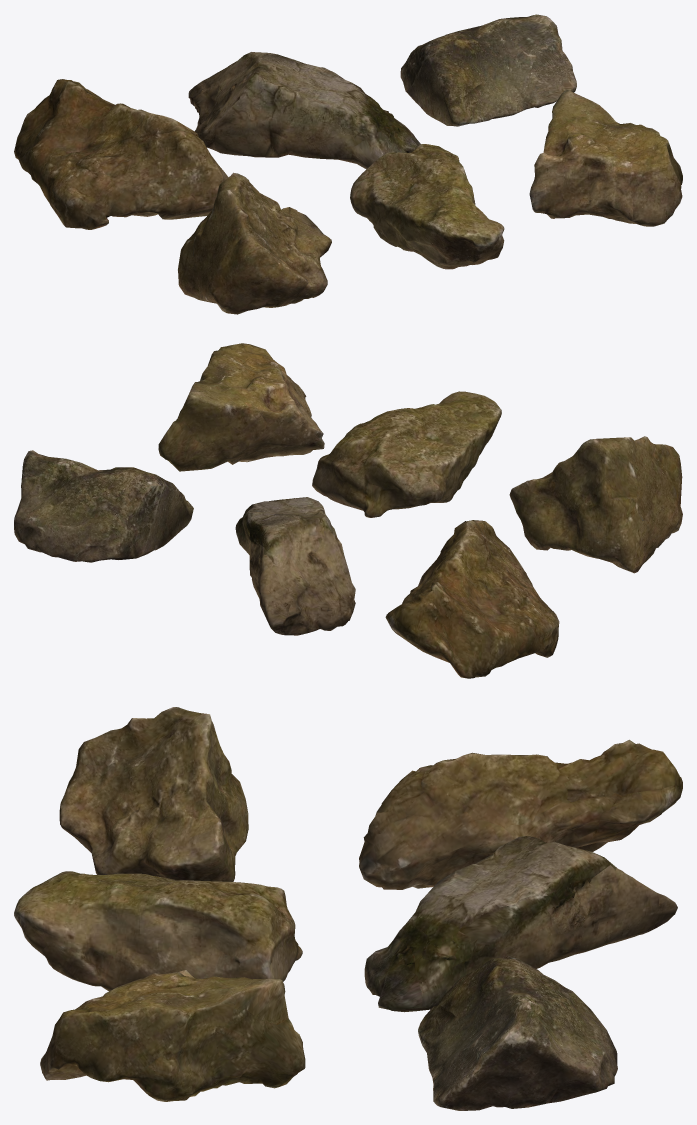
File: rock_moss_set_01_1k_md.glb
The picture shows the model from 3 angles, top to bottom: view 1: azimuth 30°, elevation 25°; view 2: azimuth 150°, elevation 25°; view 3: azimuth 270°, elevation 25°; orthographic projection. The views are drawn at different scales.
Parts seen in each view (by area): view 1: rock_moss_set_01_rock01, rock_moss_set_01_rock02, rock_moss_set_01_rock06, rock_moss_set_01_rock04, rock_moss_set_01_rock03, rock_moss_set_01_rock05; view 2: rock_moss_set_01_rock04, rock_moss_set_01_rock01, rock_moss_set_01_rock05, rock_moss_set_01_rock03, rock_moss_set_01_rock06, rock_moss_set_01_rock02; view 3: rock_moss_set_01_rock01, rock_moss_set_01_rock02, rock_moss_set_01_rock05, rock_moss_set_01_rock04, rock_moss_set_01_rock06, rock_moss_set_01_rock03.
Part boxes in pixels (x1=…): rock_moss_set_01_rock01: x1=14, y1=79, x2=228, y2=229; rock_moss_set_01_rock02: x1=188, y1=52, x2=420, y2=169; rock_moss_set_01_rock06: x1=529, y1=90, x2=682, y2=226; rock_moss_set_01_rock04: x1=178, y1=172, x2=331, y2=314; rock_moss_set_01_rock03: x1=400, y1=14, x2=576, y2=126; rock_moss_set_01_rock05: x1=350, y1=144, x2=504, y2=269; rock_moss_set_01_rock04: x1=509, y1=436, x2=682, y2=573; rock_moss_set_01_rock01: x1=385, y1=520, x2=559, y2=678; rock_moss_set_01_rock05: x1=312, y1=391, x2=501, y2=517; rock_moss_set_01_rock03: x1=14, y1=450, x2=193, y2=562; rock_moss_set_01_rock06: x1=158, y1=343, x2=324, y2=471; rock_moss_set_01_rock02: x1=235, y1=497, x2=355, y2=635; rock_moss_set_01_rock01: x1=359, y1=739, x2=682, y2=889; rock_moss_set_01_rock02: x1=364, y1=836, x2=677, y2=1012; rock_moss_set_01_rock05: x1=14, y1=871, x2=302, y2=991; rock_moss_set_01_rock04: x1=59, y1=707, x2=248, y2=881; rock_moss_set_01_rock06: x1=40, y1=970, x2=305, y2=1101; rock_moss_set_01_rock03: x1=418, y1=956, x2=617, y2=1110.
Bounding box in the file's own units: 8 × 1.76 × 6.94.
1 material, 1 textured.
